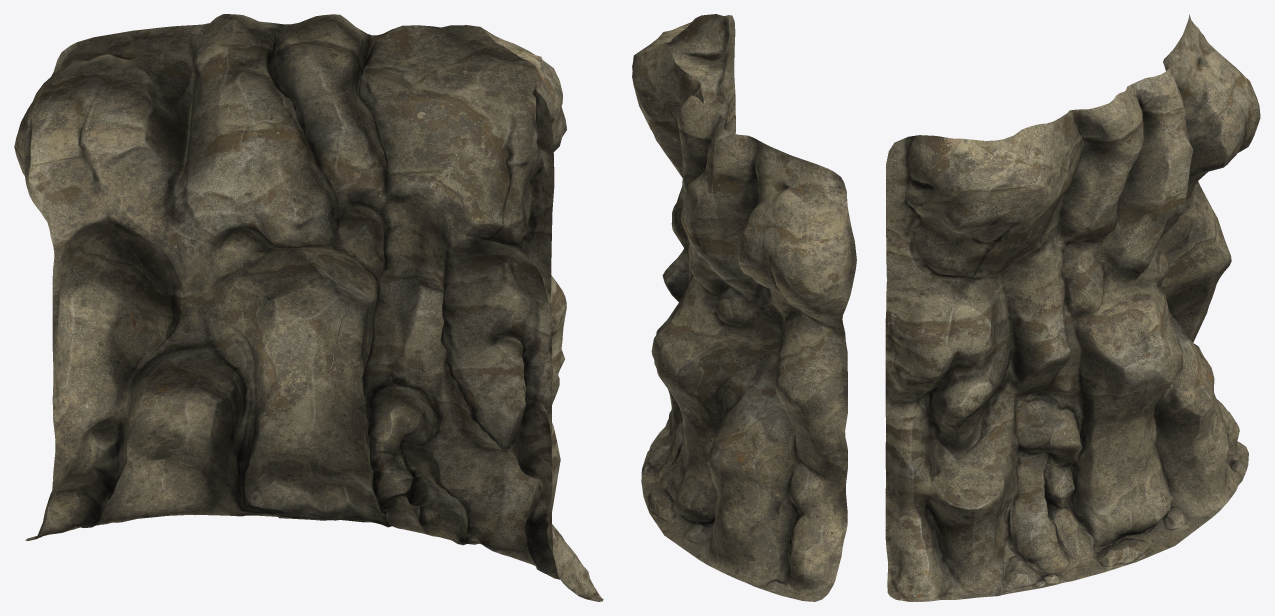
The model's file is cave_saltmine_jagged_wall_convex_01.dae.
The picture shows the model from 3 angles, left to right: view 1: azimuth 30°, elevation 25°; view 2: azimuth 150°, elevation 25°; view 3: azimuth 270°, elevation 25°; orthographic projection. The views are drawn at different scales.
Visible parts, largest first — view 1: wall_1_convex; view 2: wall_1_convex; view 3: wall_1_convex.
Part boxes in pixels (bbox=[...]): wall_1_convex: bbox=[14, 14, 603, 601]; wall_1_convex: bbox=[632, 14, 856, 601]; wall_1_convex: bbox=[885, 14, 1260, 601].
Bounding box in the file's own units: 3.25 × 4.11 × 3.08.
